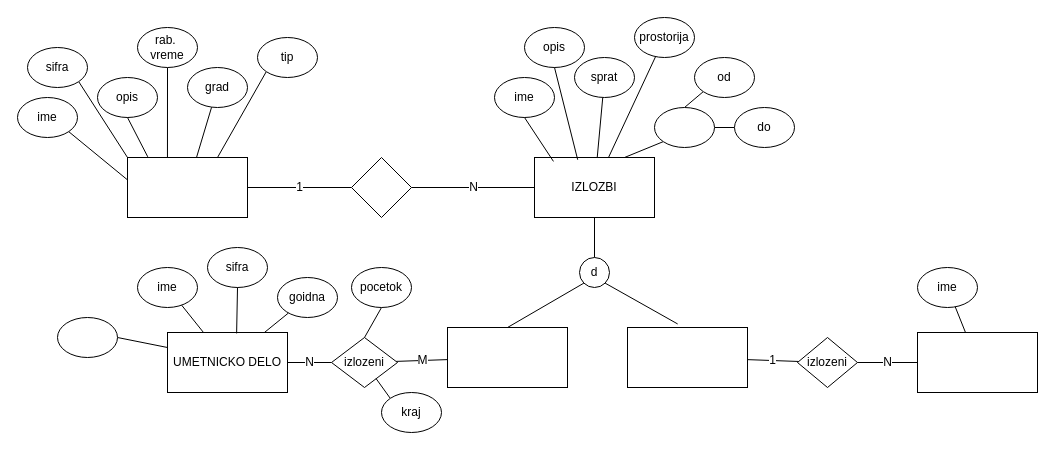
Image size: 1055x450. Some labels were removed from this diagram. Here are the shapes that lost their labels. From the top down, the centre of each, then its label:
At (x=684, y=127): "datum".
At (x=187, y=187): "MUZEJ".
At (x=381, y=187): "ima".
At (x=87, y=337): "umetnik".
At (x=507, y=357): "IZLOZBA NA UMETNISCKI DELA".
At (x=687, y=357): "IZLOZBA NA TEHNOLOSKI DOSTIGNUVANJA".
At (x=977, y=362): "OBJEKTI".
